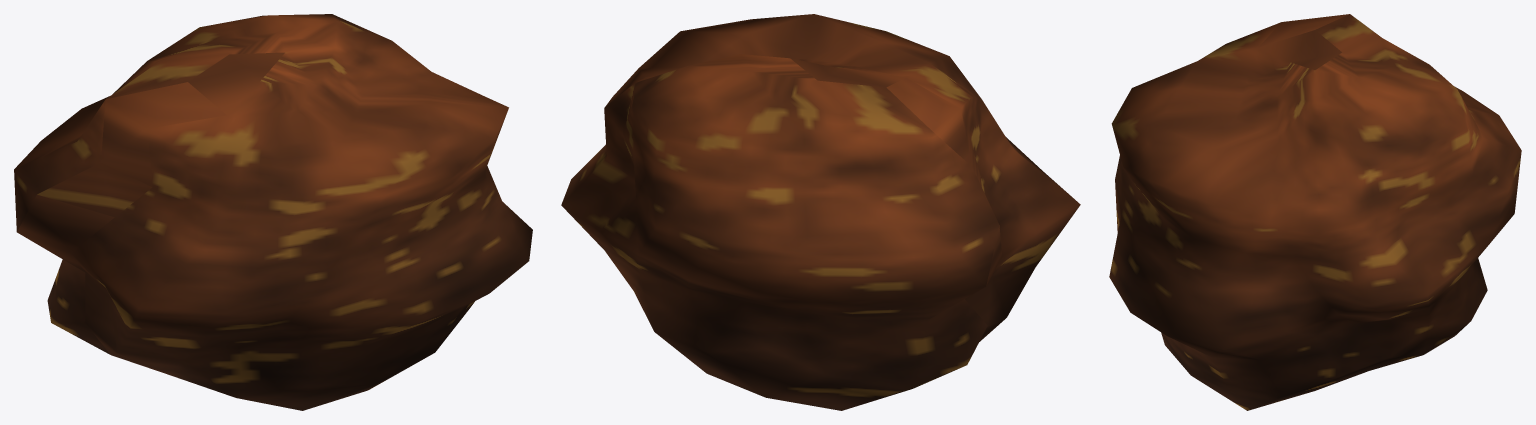
File: bogironlump.glb
The picture shows the model from 3 angles, left to right: view 1: azimuth 30°, elevation 25°; view 2: azimuth 150°, elevation 25°; view 3: azimuth 270°, elevation 25°; orthographic projection. The views are drawn at different scales.
Parts seen in each view (by area): view 1: bogironlump; view 2: bogironlump; view 3: bogironlump.
Part boxes in pixels (x1=…): bogironlump: x1=14, y1=14, x2=532, y2=410; bogironlump: x1=561, y1=14, x2=1080, y2=410; bogironlump: x1=1109, y1=14, x2=1521, y2=410.
Bounding box in the file's own units: 0.2066 × 0.1415 × 0.176.
Materials: 1 (1 with a texture image).
